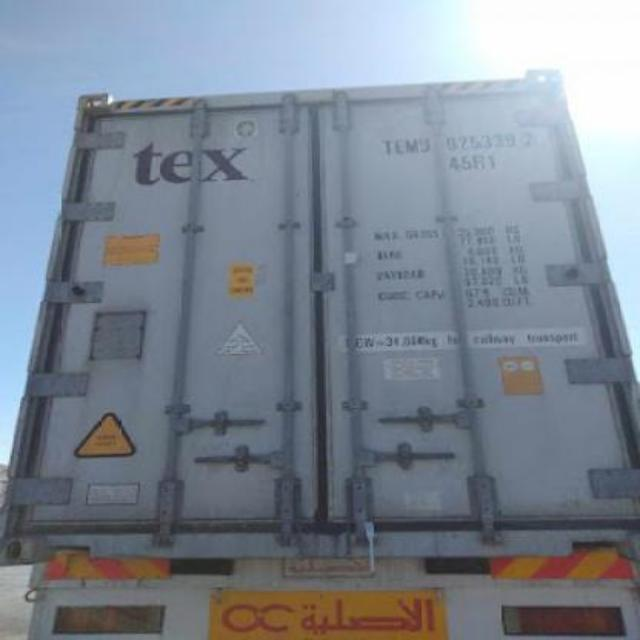2: (520, 130, 538, 148), (456, 135, 469, 153)
3: (482, 134, 494, 150), (494, 134, 506, 150)
5: (468, 134, 482, 150)
9: (504, 132, 518, 150), (444, 138, 456, 150)
E: (392, 138, 406, 156)
M: (404, 138, 420, 154)
T: (380, 138, 396, 156)
U: (418, 137, 432, 153)
